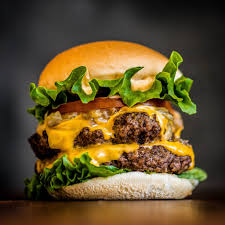hamburger: (26, 39, 208, 202)
